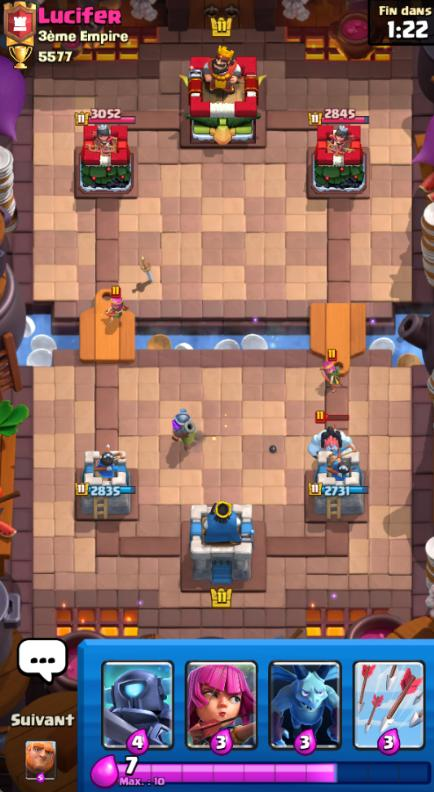archere: (319, 359, 345, 390), (107, 296, 127, 322)
mousquetaire: (170, 407, 197, 448)
